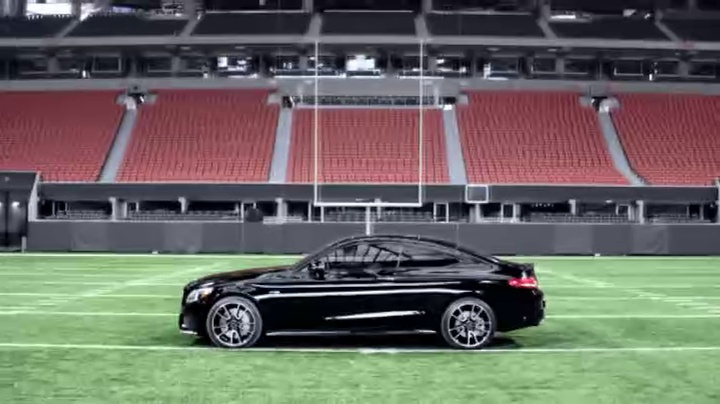amg: (178, 238, 547, 346)
